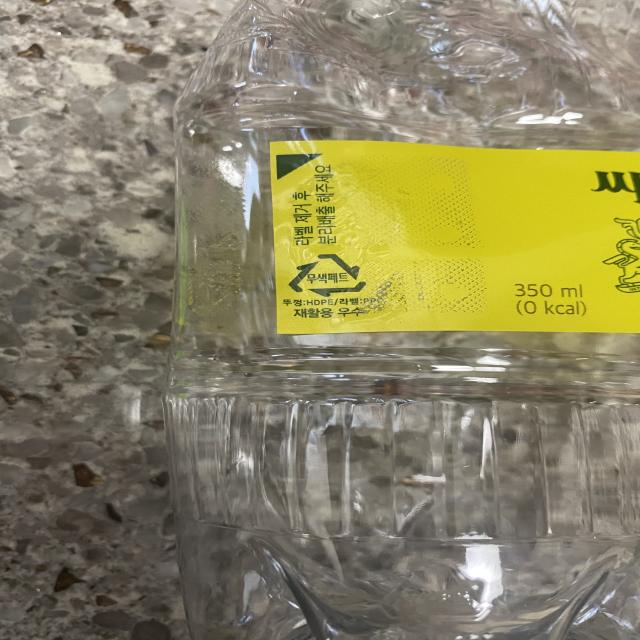ColorlessPET: (284, 250, 368, 298)
